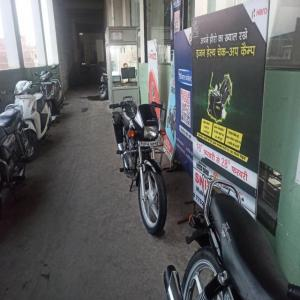Plate: (140, 140, 161, 147)
